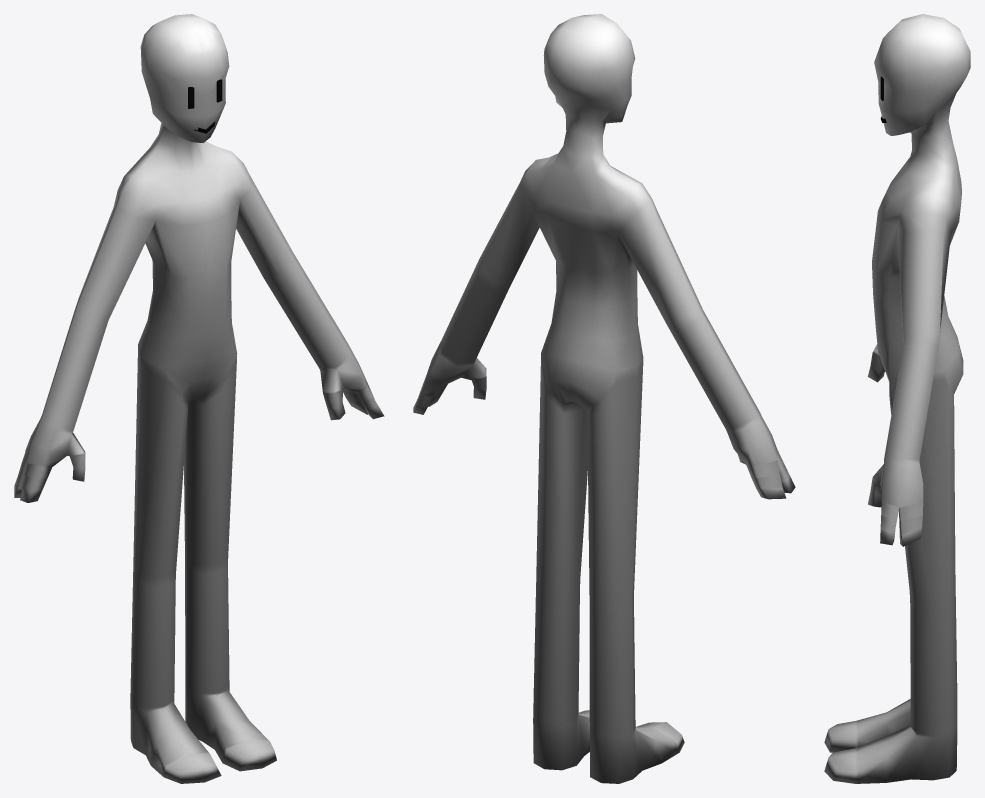
The model's file is character_geo.fbx.
3 renders of one model, left to right at view 1: azimuth 30°, elevation 25°; view 2: azimuth 150°, elevation 25°; view 3: azimuth 270°, elevation 25°, orthographic. The views are drawn at different scales.
Visible parts, largest first — view 1: geo_basebody; view 2: geo_basebody; view 3: geo_basebody.
Boxes of the visible parts, <box> form: geo_basebody: <box>14,14,384,783</box>; geo_basebody: <box>413,14,795,783</box>; geo_basebody: <box>824,14,970,783</box>.
Size of the model in its own units: 0.9269 by 1.77 by 0.318.
